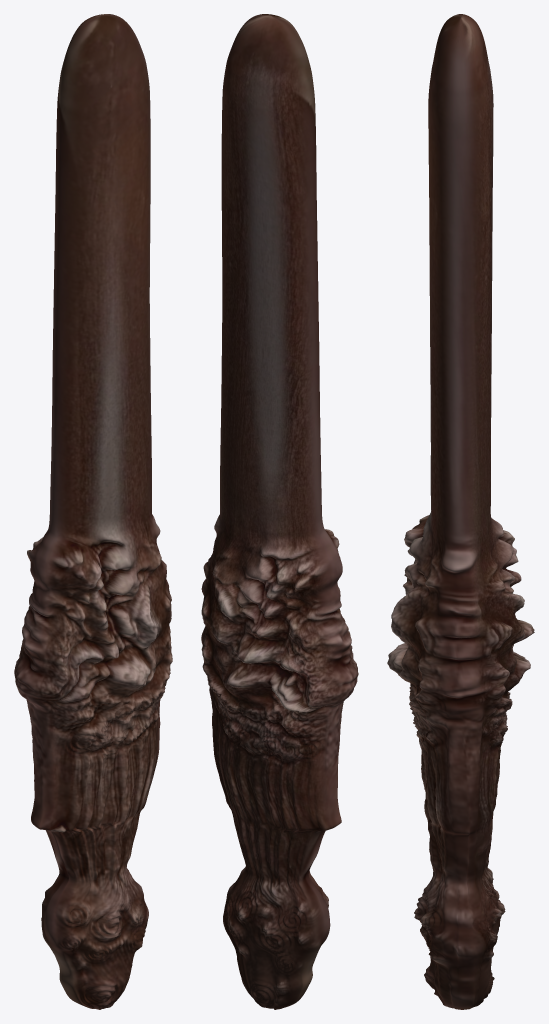
The model's file is yunwen.glb.
3 renders of one model, left to right at view 1: azimuth 30°, elevation 25°; view 2: azimuth 150°, elevation 25°; view 3: azimuth 270°, elevation 25°, orthographic.
Visible parts, largest first — view 1: 云纹木雕 · 木胎与雕纹; view 2: 云纹木雕 · 木胎与雕纹; view 3: 云纹木雕 · 木胎与雕纹.
Part boxes in pixels (bbox=[...]): 云纹木雕 · 木胎与雕纹: bbox=[14, 14, 172, 1009]; 云纹木雕 · 木胎与雕纹: bbox=[201, 14, 358, 1009]; 云纹木雕 · 木胎与雕纹: bbox=[387, 14, 534, 1009].
Size of the model in its own units: 1.34 by 8.6 by 1.16.
1 material, 1 textured.
